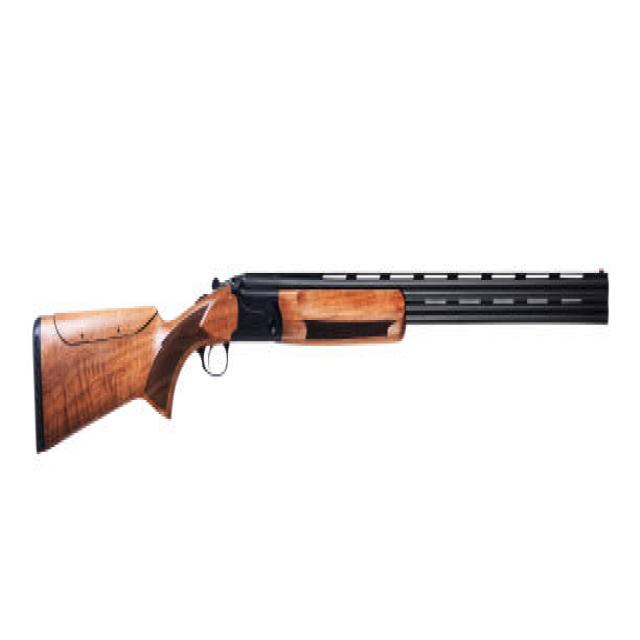rifle: (28, 254, 619, 471)
